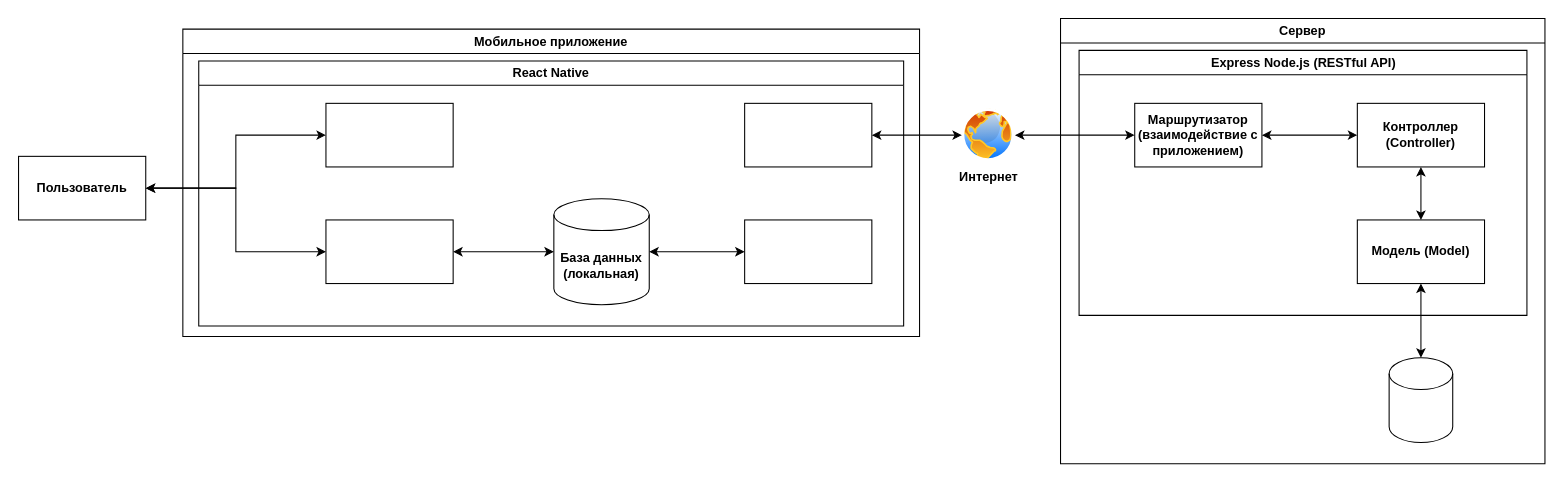
Some shapes in this 1563 by 482 pixel diagram are drawn without their labels. Each missing label, with the centre of its shape:
База данных: point 1420,400
Модуль взаимодействия с сервером: point 808,134
Модуль кеширования данных: point 808,251
Модуль настроек: point 389,251
Модуль окна приложения (View): point 389,134
